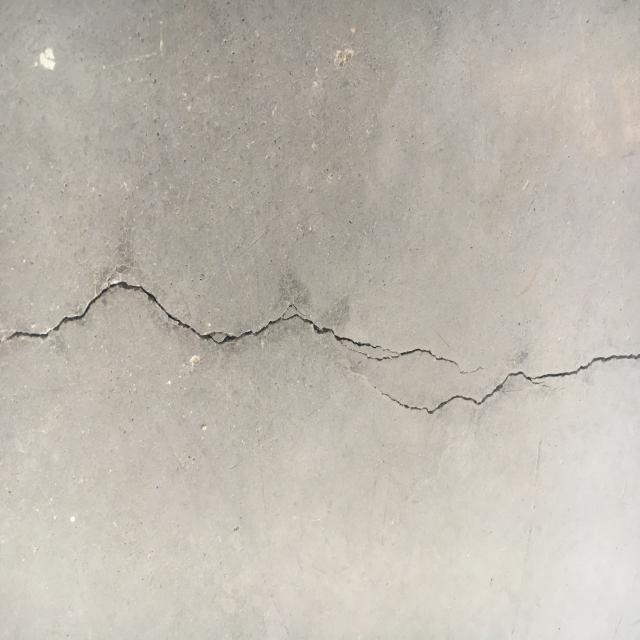Rachadura: (0, 275, 640, 417)
